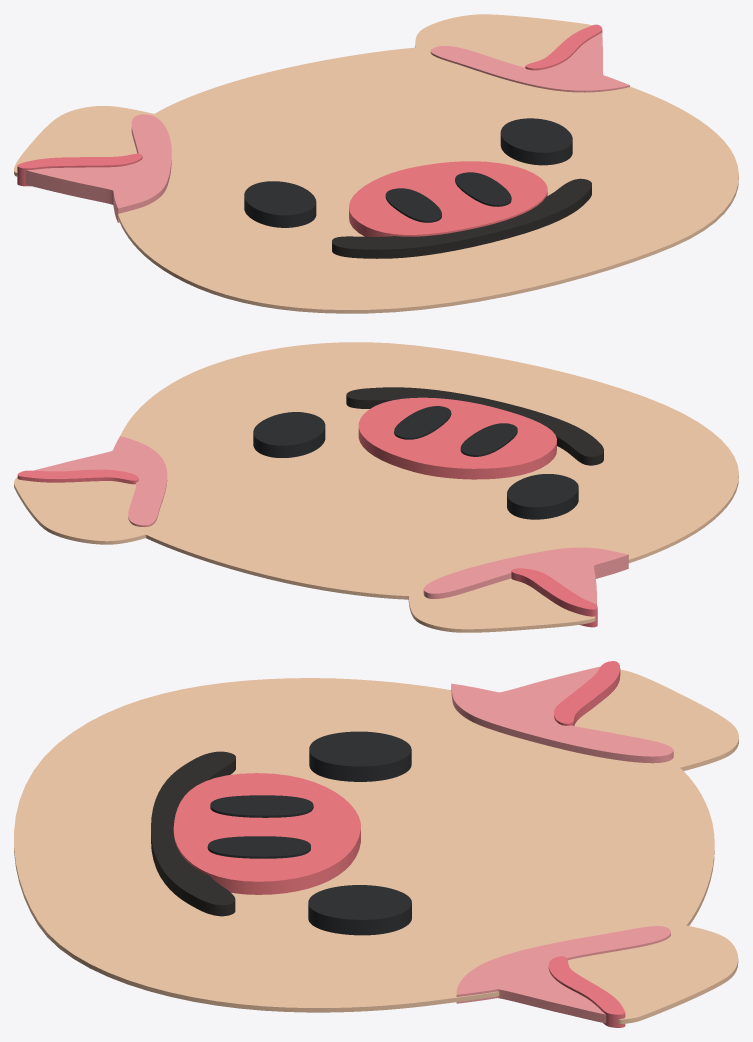
The model's file is emoji_u1f437.glb.
3 renders of one model, top to bottom at view 1: azimuth 30°, elevation 25°; view 2: azimuth 150°, elevation 25°; view 3: azimuth 270°, elevation 25°, orthographic. The views are drawn at different scales.
Visible parts, largest first — view 1: emoji_u1f437; view 2: emoji_u1f437; view 3: emoji_u1f437.
Boxes of the visible parts, x1,y1,x2,y2 form: emoji_u1f437: (14, 14, 738, 313); emoji_u1f437: (14, 342, 738, 632); emoji_u1f437: (14, 661, 738, 1027).
Bounding box in the file's own units: 0.034 × 0.0016 × 0.0297.
